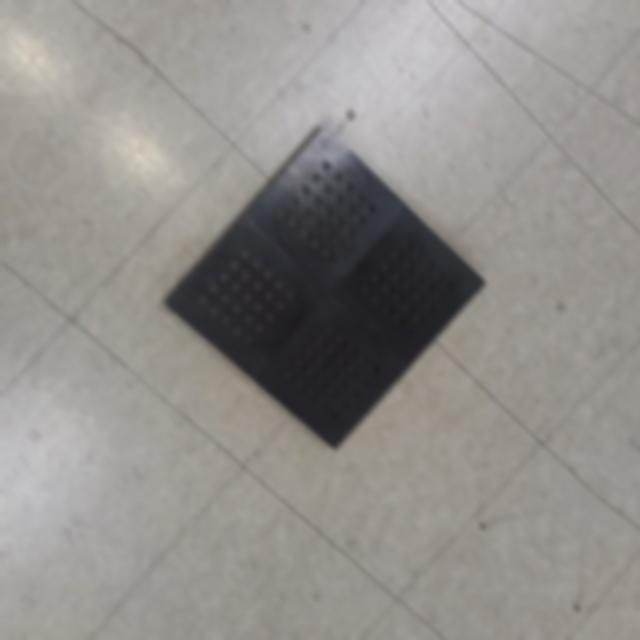pallet: (154, 114, 500, 461)
